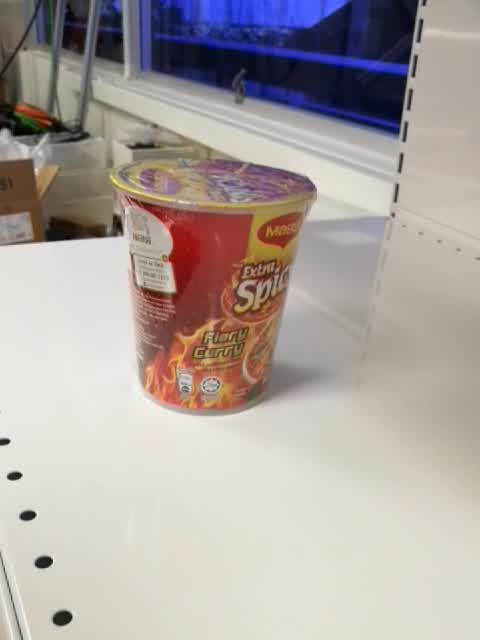maggi: (109, 156, 319, 416)
